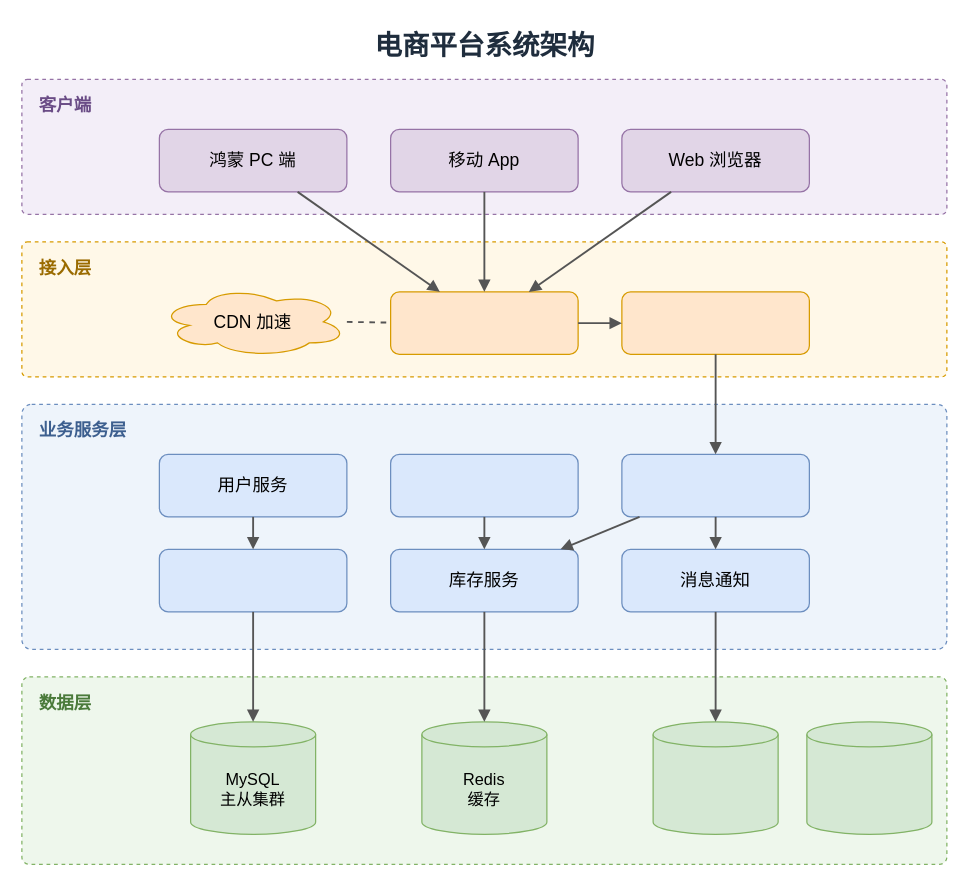
This 969x886 diagram has some shape labels left out. Each missing label, with the centre of its shape:
"API 网关 鉴权 · 限流 · 路由" goes at point 715,322.
"商品服务" goes at point 483,485.
"对象存储" goes at point 869,777.
"支付服务" goes at point 252,580.
"消息队列" goes at point 715,777.
"订单服务" goes at point 715,485.
"负载均衡" goes at point 483,322.
